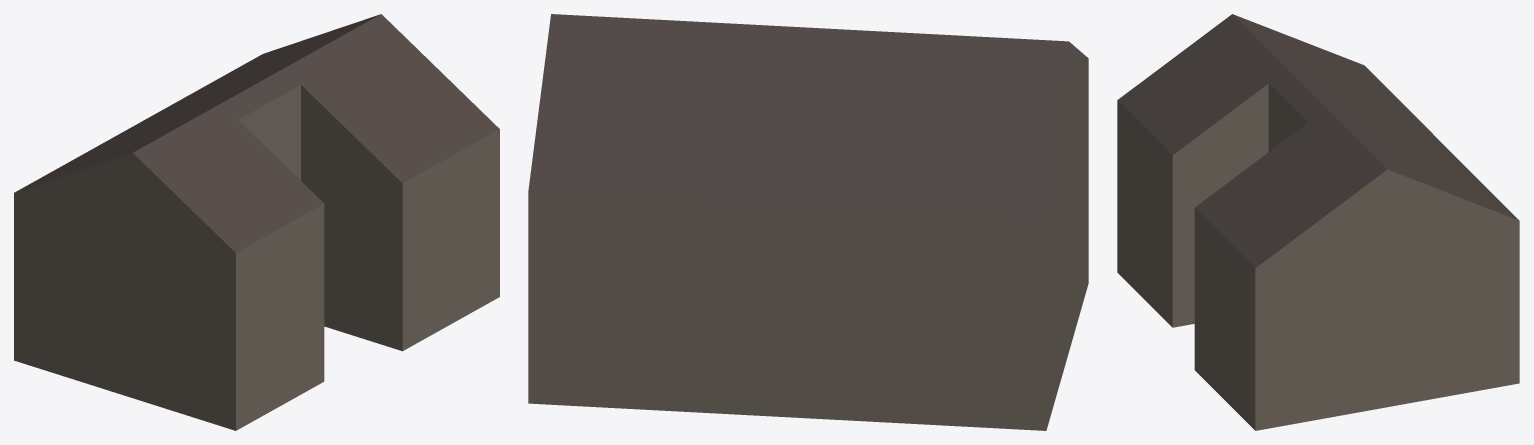
3 views of the same model, side by side, from view 1: azimuth 30°, elevation 25°; view 2: azimuth 150°, elevation 25°; view 3: azimuth 270°, elevation 25° (orthographic). The views are drawn at different scales.
Parts seen in each view (by area): view 1: HP-w1200774747; view 2: HP-w1200774747; view 3: HP-w1200774747.
Boxes of the visible parts, x1,y1,x2,y2 form: HP-w1200774747: (14, 14, 499, 430); HP-w1200774747: (528, 14, 1088, 430); HP-w1200774747: (1117, 14, 1519, 430).
Size of the model in its own units: 24.1 by 13.16 by 20.18.
